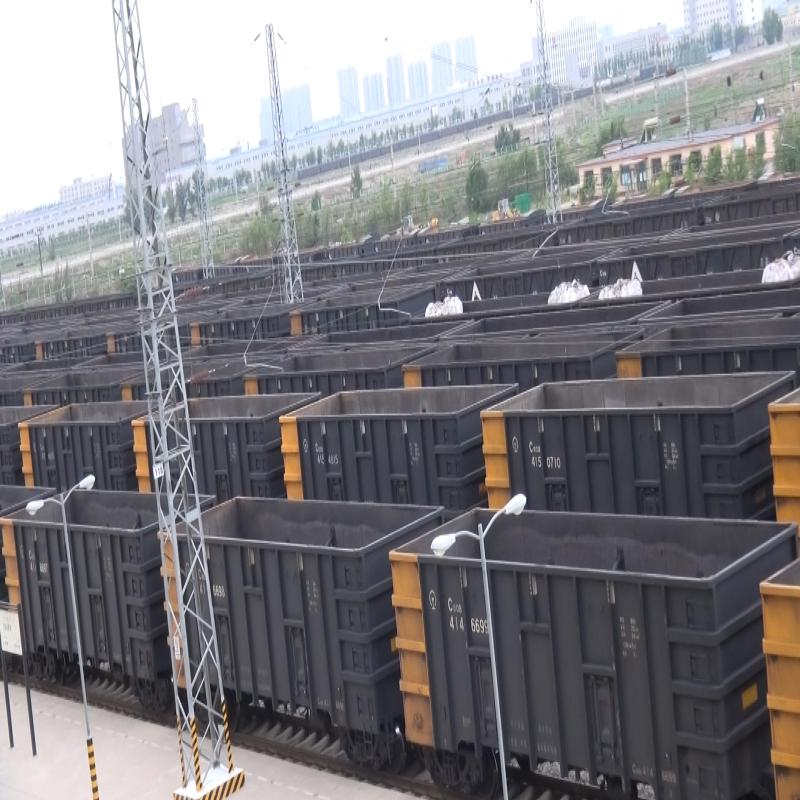train: (476, 540, 756, 797), (219, 493, 405, 773), (502, 387, 758, 520)
